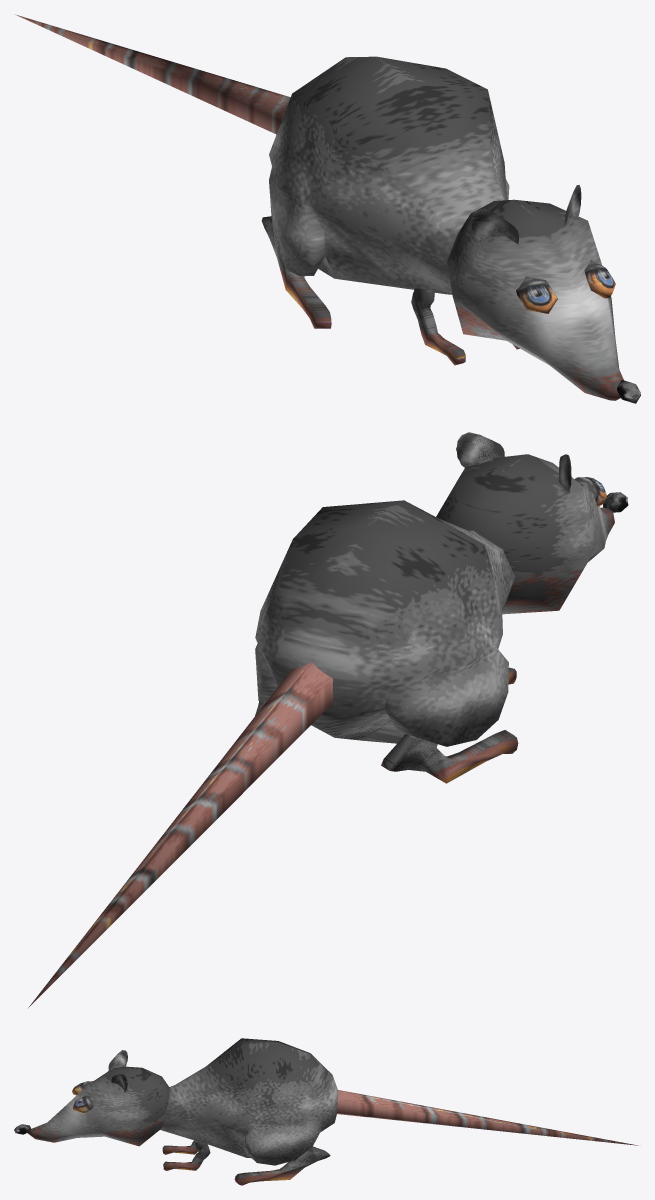
File: figurine.obj
The picture shows the model from 3 angles, top to bottom: view 1: azimuth 30°, elevation 25°; view 2: azimuth 150°, elevation 25°; view 3: azimuth 270°, elevation 25°; orthographic projection. The views are drawn at different scales.
Parts seen in each view (by area): view 1: object 1, 2, 6, 7, 4, 3; view 2: object 1, 2, 6, 7, 3; view 3: object 1, 2, 6, 7, 3, 4.
Part boxes in pixels (x1,y1,x2,y2): object 1: (269,56,509,294); 2: (447,199,623,400); 6: (15,14,290,134); 7: (261,216,519,365); 4: (516,260,615,313); 3: (471,185,581,244); object 1: (255,500,515,746); 2: (436,454,614,614); 6: (28,662,333,1007); 7: (255,667,518,783); 3: (456,432,571,492); object 1: (160,1038,338,1165); 2: (27,1066,169,1146); 6: (337,1090,637,1145); 7: (162,1140,330,1185); 3: (108,1050,127,1092); 4: (72,1081,94,1113).
Size of the model in its own units: 2.25 by 2.25 by 10.88.
7 materials, 7 textured.
